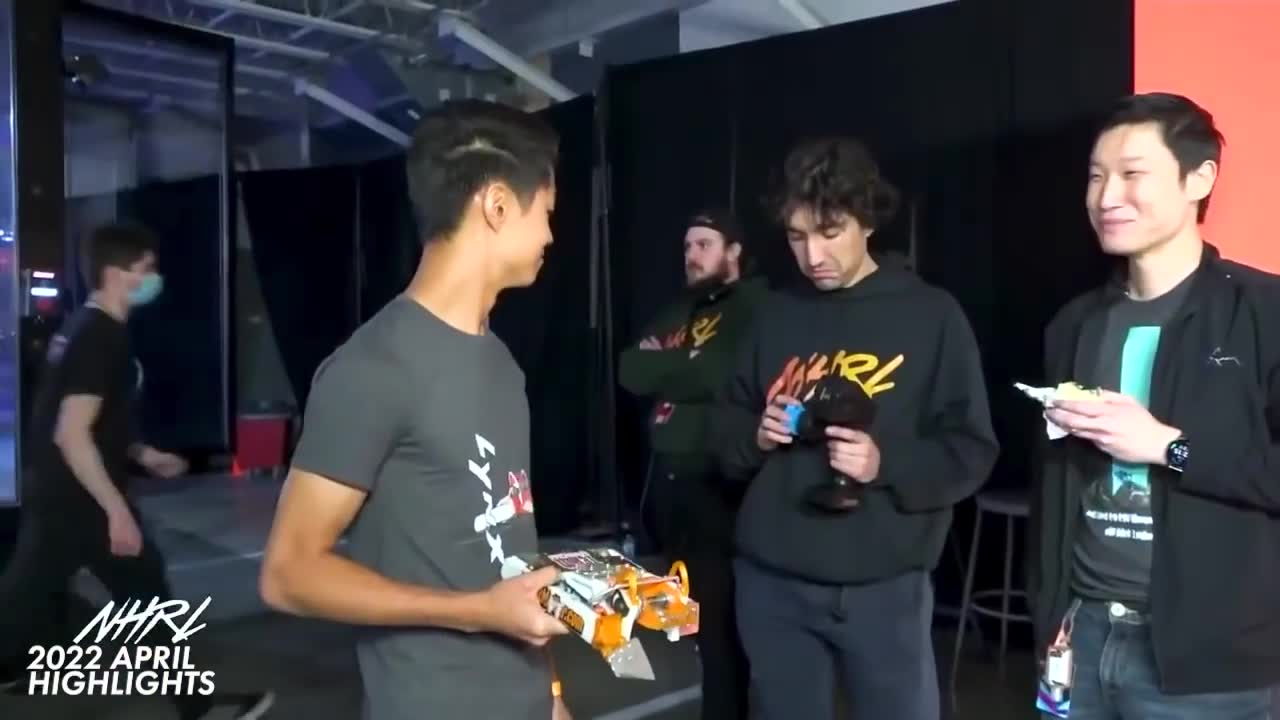combatbot: (538, 548, 702, 645)
